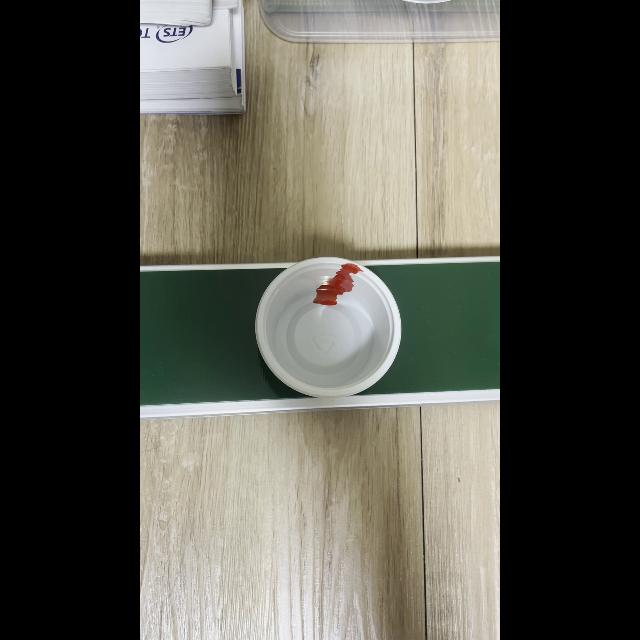dirty: (255, 258, 399, 396)
